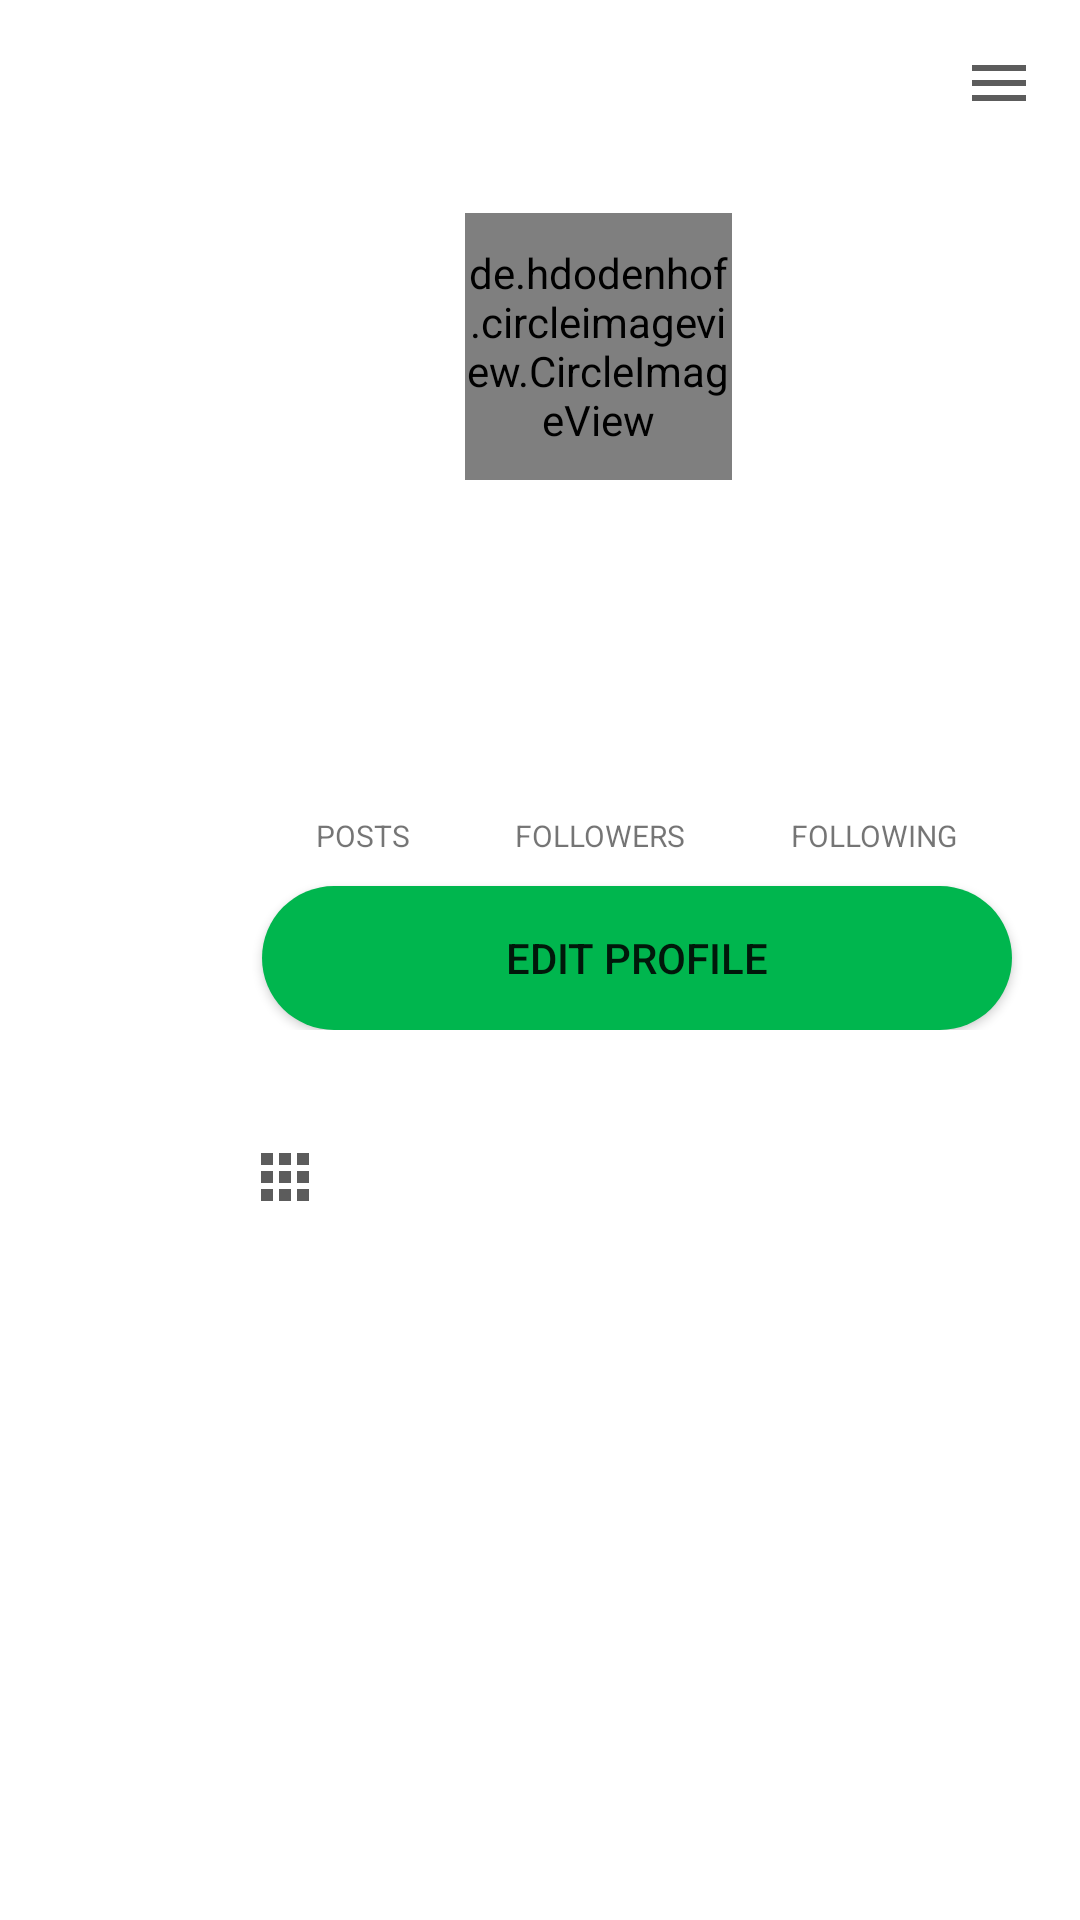

Point at icon controls on the screen. Image size 1080px x 1920px, points as (x=x, y=y).
options: (x=999, y=83)
pictures: (x=285, y=1177)
